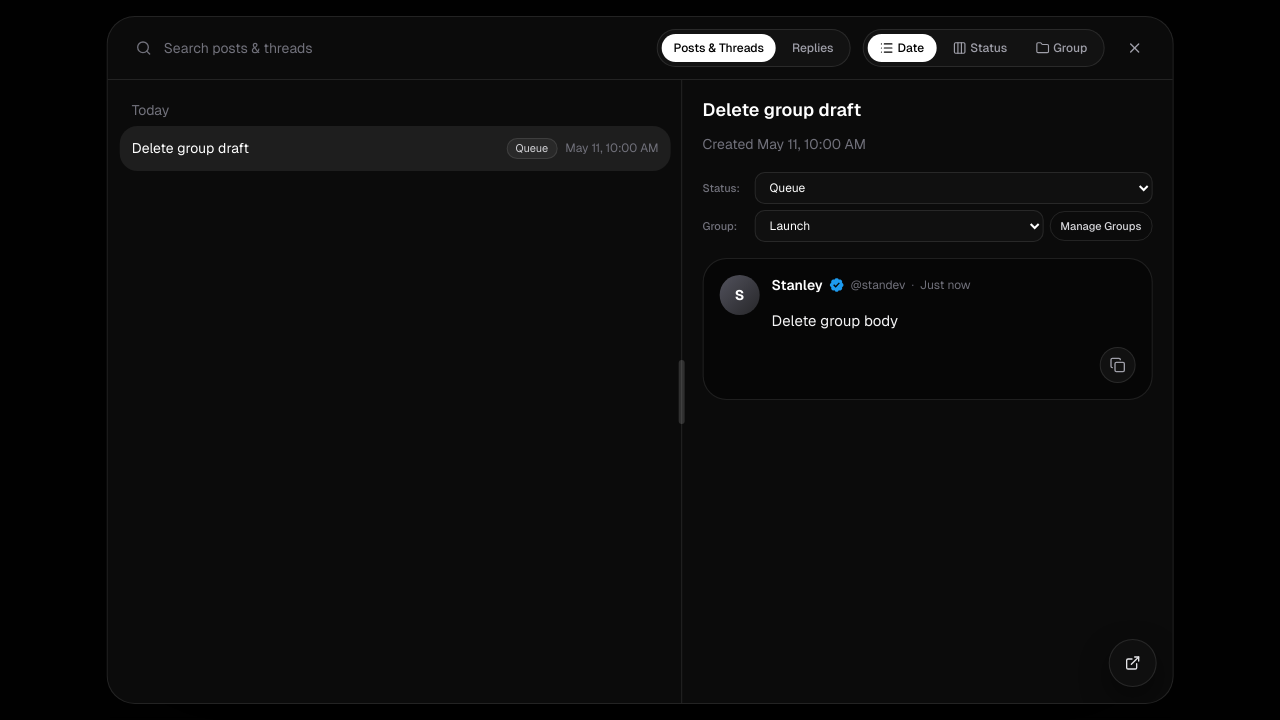
Test: deletes a group from the manage groups dialog and clears selected items back to No Group
Expected: the text "Delete group draft" is shown, [132,139,249,157]
Click the button "Delete group draft Queue May 11, 10:00 AM".
click(190, 148)  # box [120,126,671,171]
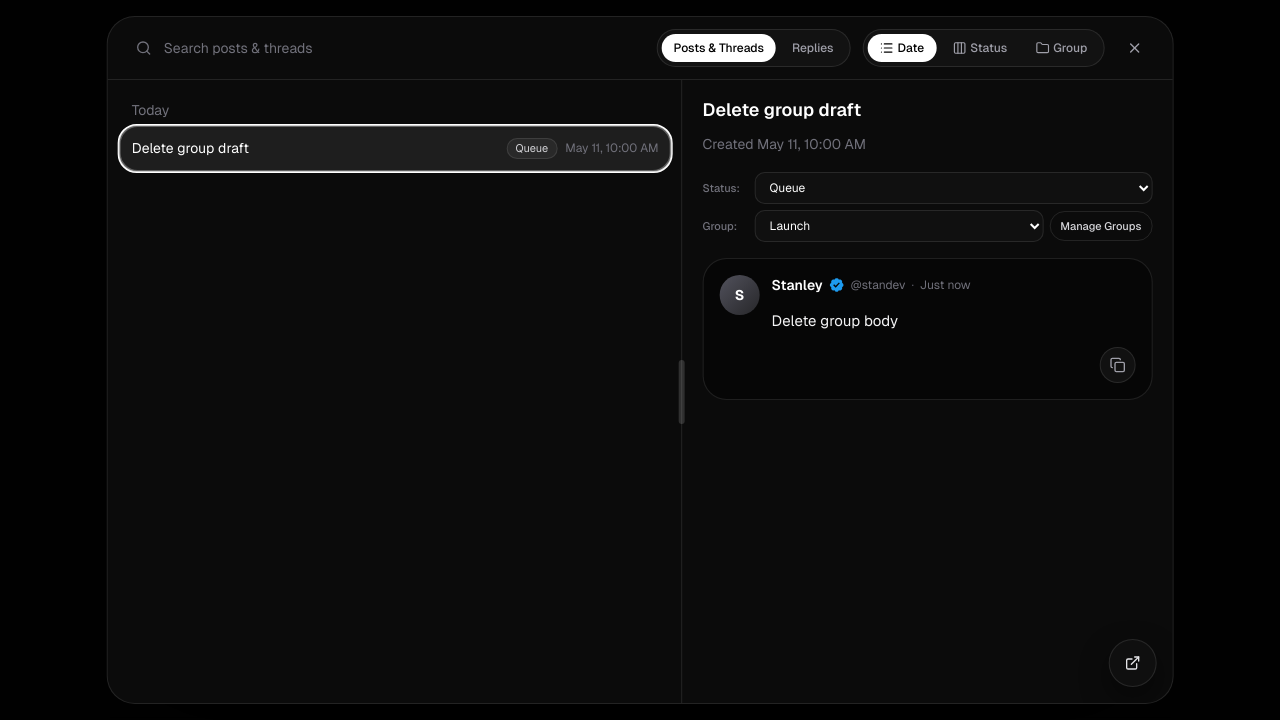
Click the button "Manage Groups".
click(1101, 226)  # box [1049,211,1152,241]
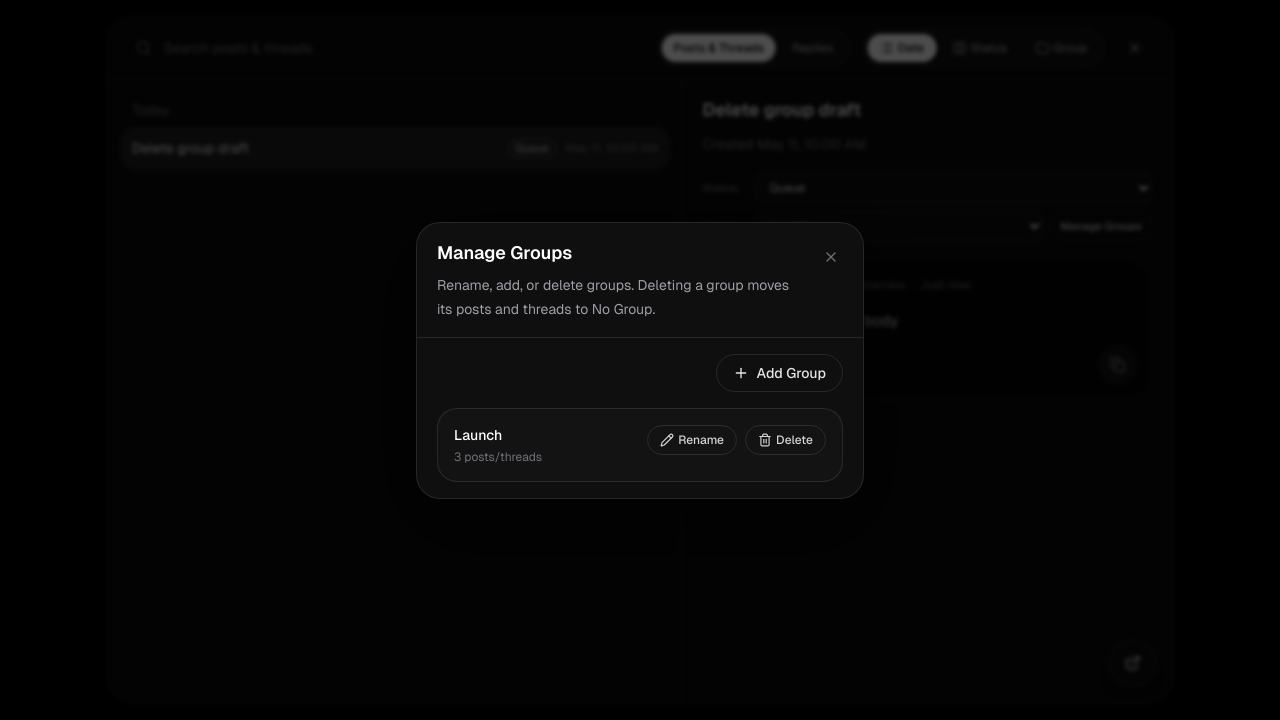
Click the button "Delete".
click(786, 440)  # box [745,424,826,454]
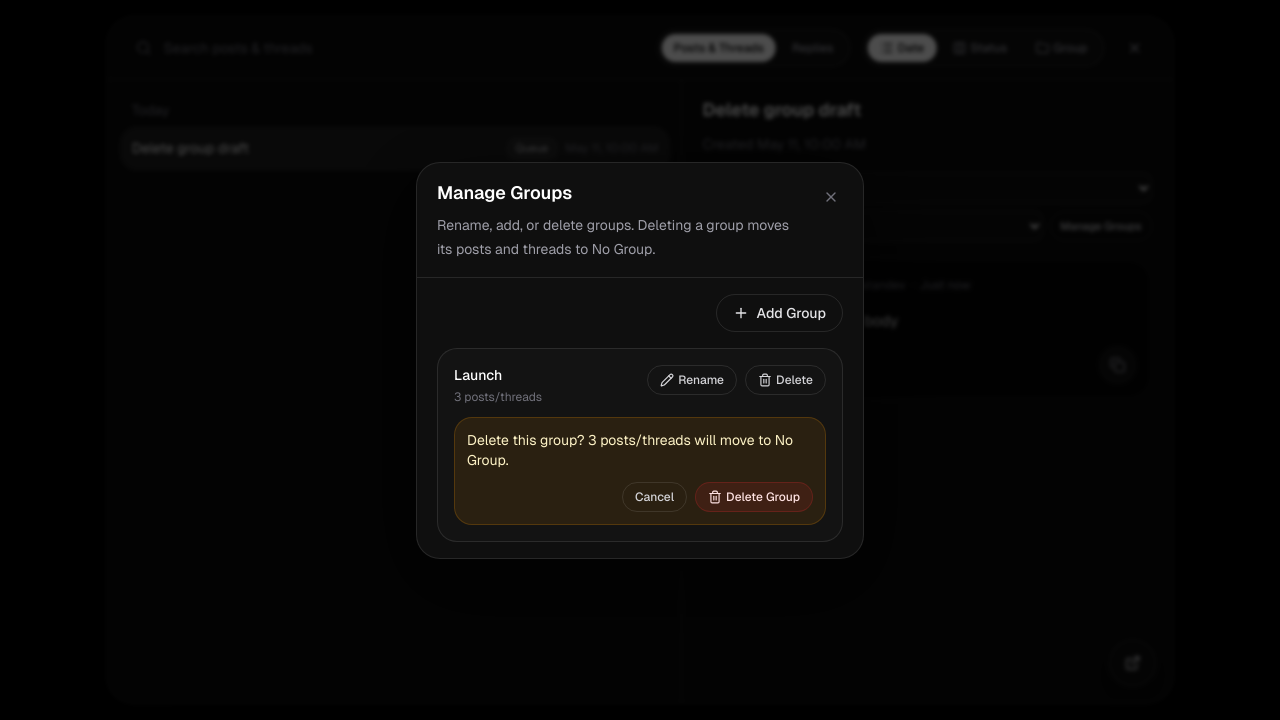
Click the button "Delete Group".
click(754, 496)  # box [695,482,813,512]
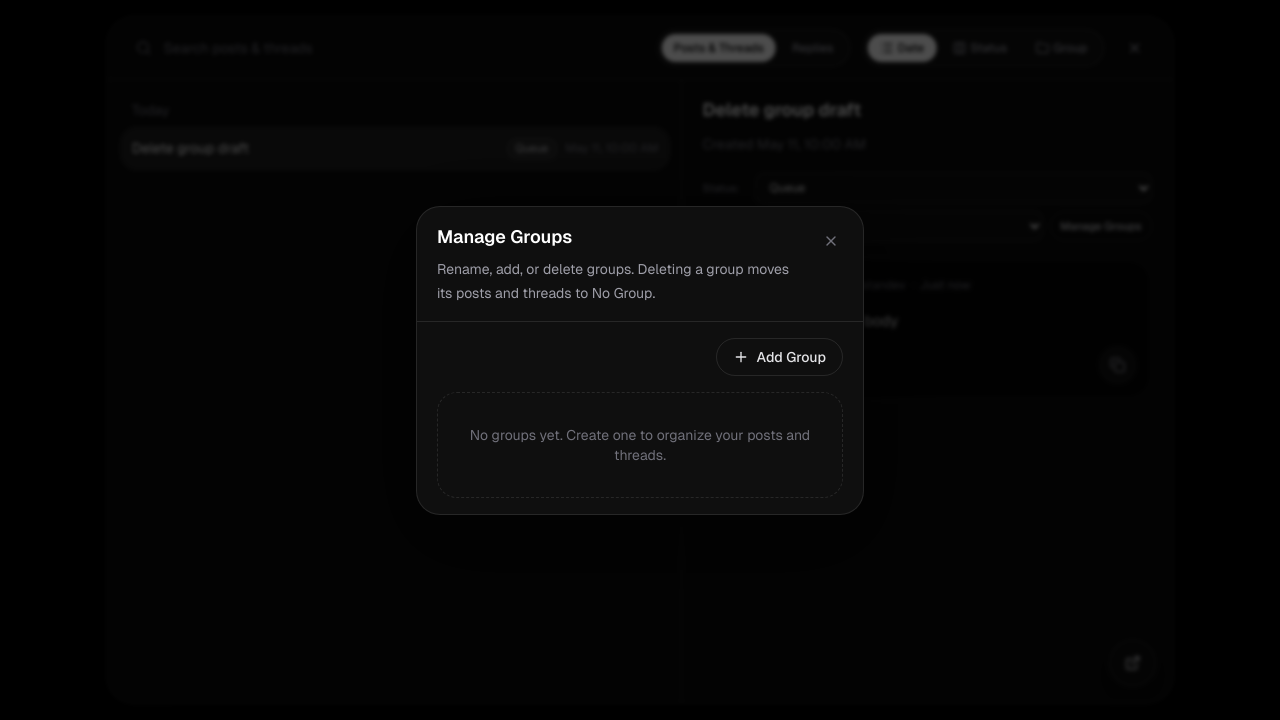
Now the dropdown named "Group:" shows "No Group", box [755,210,1043,242]
Now the text "Launch" is gone
